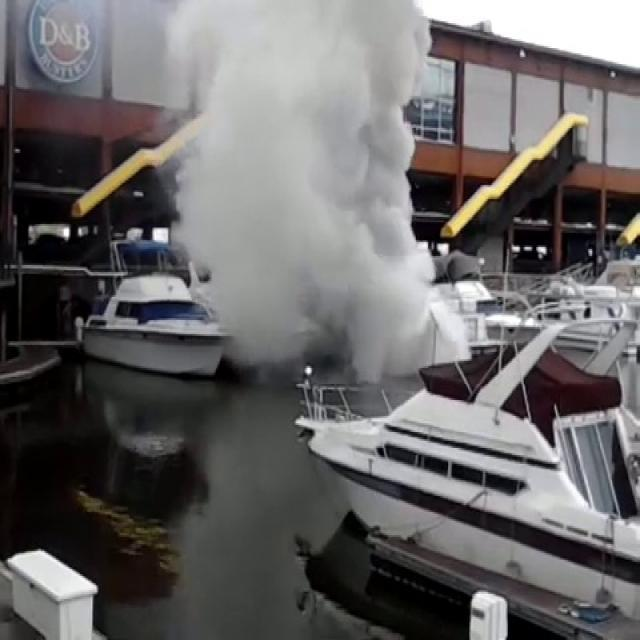Smoke: (130, 0, 468, 389)
